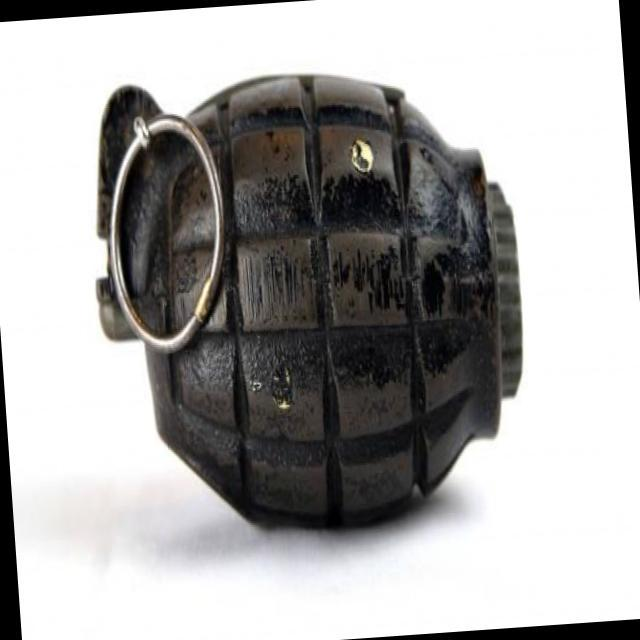grenade: (78, 52, 543, 546)
